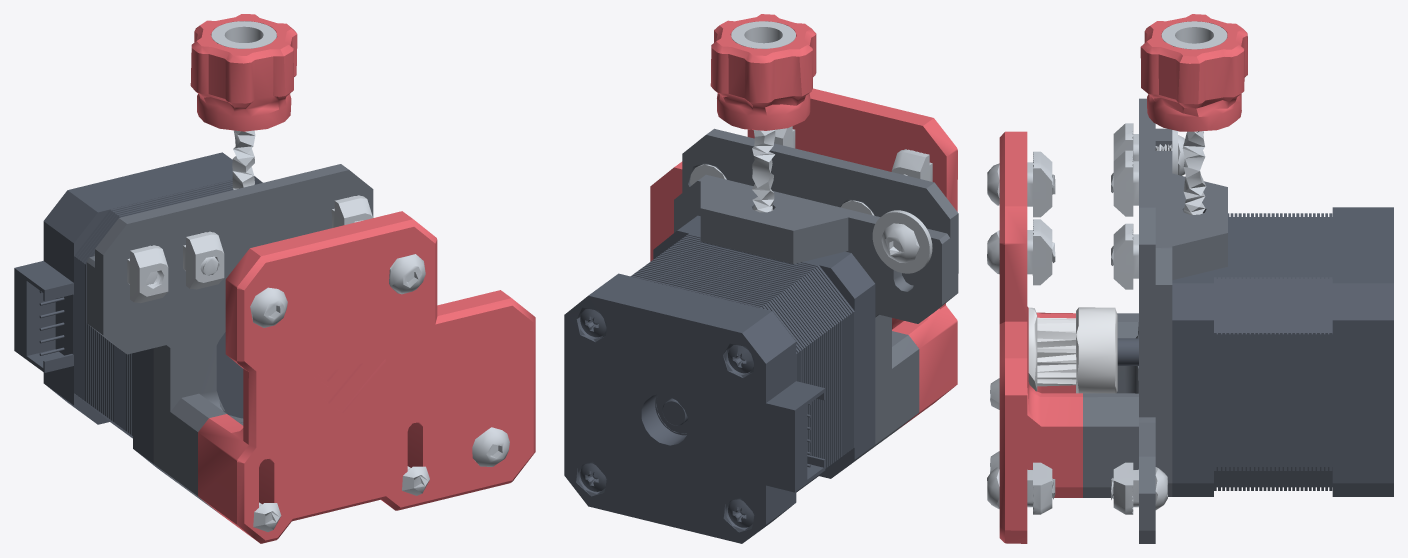
3 renders of one model, left to right at view 1: azimuth 30°, elevation 25°; view 2: azimuth 150°, elevation 25°; view 3: azimuth 270°, elevation 25°, orthographic.
Visible parts, largest first — view 1: x_motor_mount_part_b__to, x_motor_mount_part_a_mir, copy_of_nema17_stepper_m_32, knob_mirror___2__mirror_, copy_of_nema17_stepper_m_71, copy_of_nema17_stepper_m, motor_plate_mirror_, m4_t-nut_for_2020_extrus_25, m4_t-nut_for_2020_extrus_10, copy_of_nema17_stepper_m_63, cap_mirror___2__mirror_, m4_30mm_set_screw_v1_mir (+11 smaller); view 2: copy_of_nema17_stepper_m_32, motor_plate_mirror_, x_motor_mount_part_a_mir, x_motor_mount_part_b__to, knob_mirror___2__mirror_, copy_of_nema17_stepper_m, m4_12mm_1mmwasher_v3_mir, m4_30mm_set_screw_v1_mir, cap_mirror___2__mirror_, m4_10mm_button_head_v1_m, m4_t-nut_for_2020_extrus_13, copy_of_nema17_stepper_m_38 (+33 smaller); view 3: copy_of_nema17_stepper_m_32, x_motor_mount_part_b__to, copy_of_nema17_stepper_m_33, x_motor_mount_part_a_mir, motor_plate_mirror_, knob_mirror___2__mirror_, copy_of_nema17_stepper_m, gt2_20t_v1__1__mirror_, m4_30mm_set_screw_v1_mir, cap_mirror___2__mirror_, m4_t-nut_for_2020_extrus_10, m4_t-nut_for_2020_extrus_11 (+39 smaller).
Part boxes in pixels (<box>): x_motor_mount_part_b__to: <box>198,211,535,543</box>; x_motor_mount_part_a_mir: <box>95,164,373,514</box>; copy_of_nema17_stepper_m_32: <box>14,152,262,424</box>; knob_mirror___2__mirror_: <box>190,14,297,131</box>; copy_of_nema17_stepper_m_71: <box>25,278,73,371</box>; copy_of_nema17_stepper_m: <box>133,348,233,481</box>; motor_plate_mirror_: <box>86,256,243,486</box>; m4_t-nut_for_2020_extrus_25: <box>127,245,168,303</box>; m4_t-nut_for_2020_extrus_10: <box>183,231,224,289</box>; copy_of_nema17_stepper_m_63: <box>216,332,243,418</box>; cap_mirror___2__mirror_: <box>211,21,276,48</box>; m4_30mm_set_screw_v1_mir: <box>232,130,255,189</box>; copy_of_nema17_stepper_m_32: <box>564,273,825,543</box>; motor_plate_mirror_: <box>674,174,950,460</box>; x_motor_mount_part_a_mir: <box>682,128,958,454</box>; x_motor_mount_part_b__to: <box>650,88,957,428</box>; knob_mirror___2__mirror_: <box>710,14,816,130</box>; copy_of_nema17_stepper_m: <box>653,215,875,478</box>; m4_12mm_1mmwasher_v3_mir: <box>872,210,932,273</box>; m4_30mm_set_screw_v1_mir: <box>752,130,775,212</box>; cap_mirror___2__mirror_: <box>731,21,795,48</box>; m4_10mm_button_head_v1_m: <box>881,223,919,263</box>; m4_t-nut_for_2020_extrus_13: <box>891,149,932,181</box>; copy_of_nema17_stepper_m_38: <box>679,239,846,481</box>; copy_of_nema17_stepper_m_32: <box>1332,207,1393,496</box>; x_motor_mount_part_b__to: <box>999,131,1082,543</box>; copy_of_nema17_stepper_m_33: <box>1216,217,1332,487</box>; x_motor_mount_part_a_mir: <box>1083,98,1155,543</box>; motor_plate_mirror_: <box>1155,128,1227,496</box>; knob_mirror___2__mirror_: <box>1140,14,1247,131</box>; copy_of_nema17_stepper_m: <box>1172,270,1213,496</box>; gt2_20t_v1__1__mirror_: <box>1028,307,1117,393</box>; m4_30mm_set_screw_v1_mir: <box>1182,131,1206,214</box>; cap_mirror___2__mirror_: <box>1161,21,1227,49</box>; m4_t-nut_for_2020_extrus_10: <box>1113,150,1138,216</box>; m4_t-nut_for_2020_extrus_11: <box>1113,223,1138,289</box>.
Bounding box in the file's own units: 0.0763 × 0.0839 × 0.0731.
